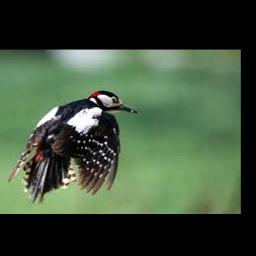Woodpecker: (9, 90, 139, 205)
